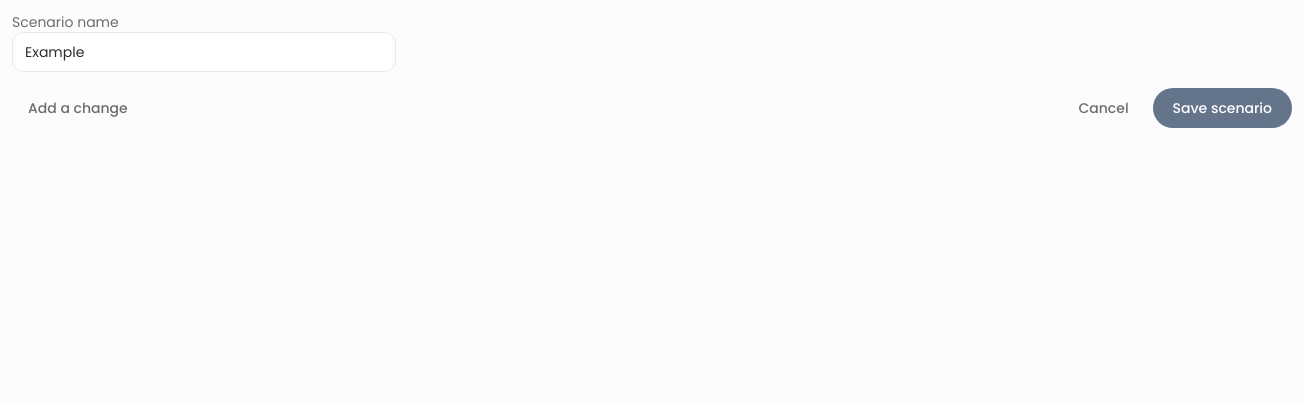
Scenario: a change without an amount is not saved
Click the button "Add a change": (78, 108) [12, 88, 144, 128]
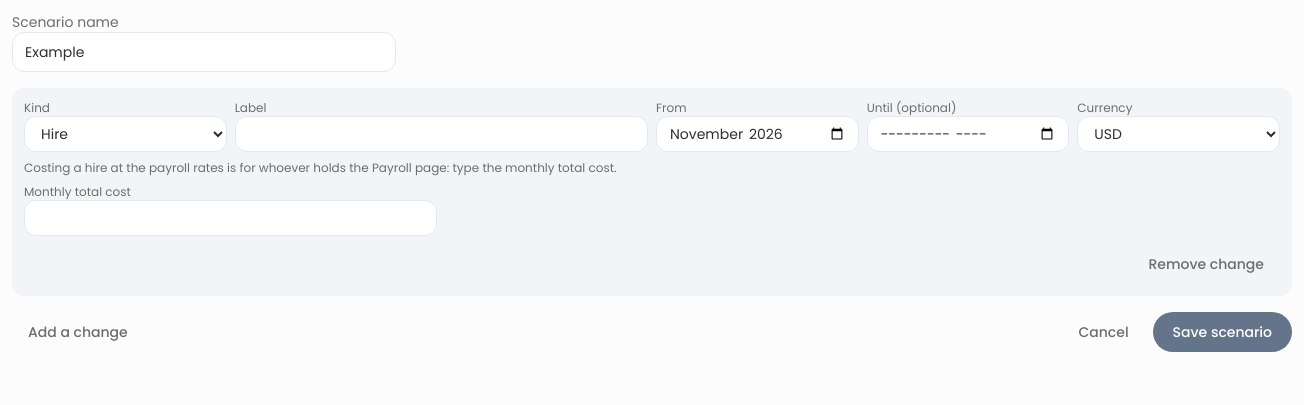
Click the button "Save scenario": (1222, 332) [1153, 312, 1292, 352]
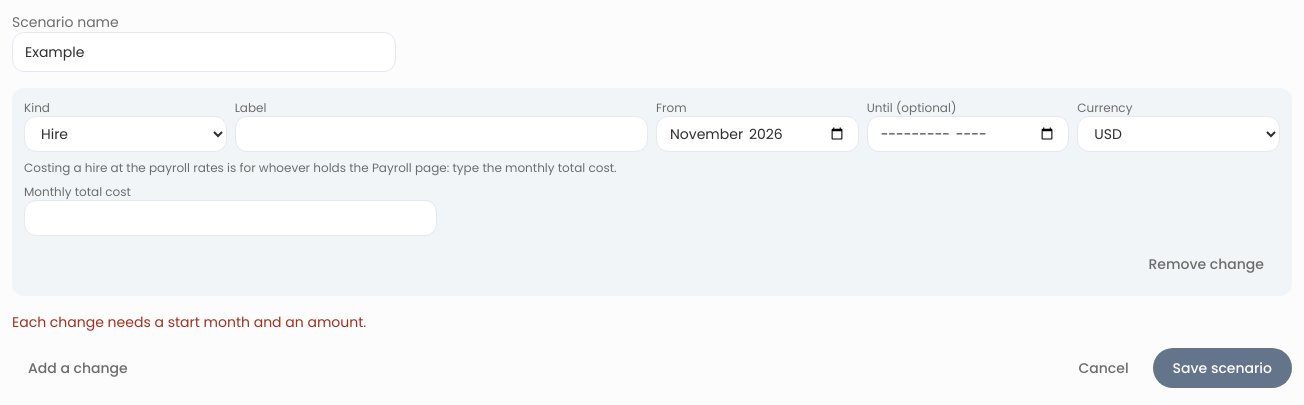
Check: the message reads "Each change needs a start month and an amount.", box [12, 312, 366, 332]
